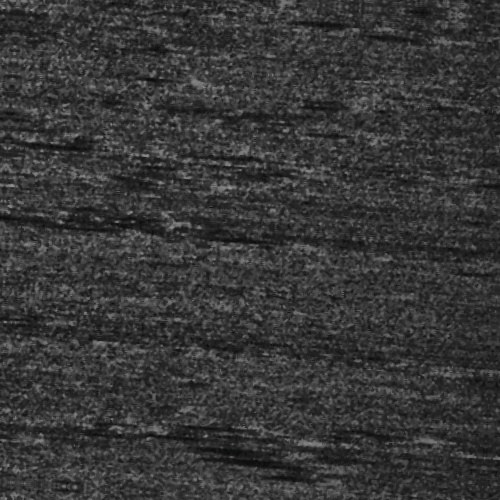object: (311, 455, 374, 466), (0, 449, 59, 456), (284, 445, 325, 454), (245, 424, 298, 429), (284, 431, 325, 436), (0, 439, 15, 448)
shadow: (259, 455, 342, 466), (217, 445, 304, 454), (182, 424, 272, 429), (218, 431, 304, 436), (0, 449, 27, 456)
